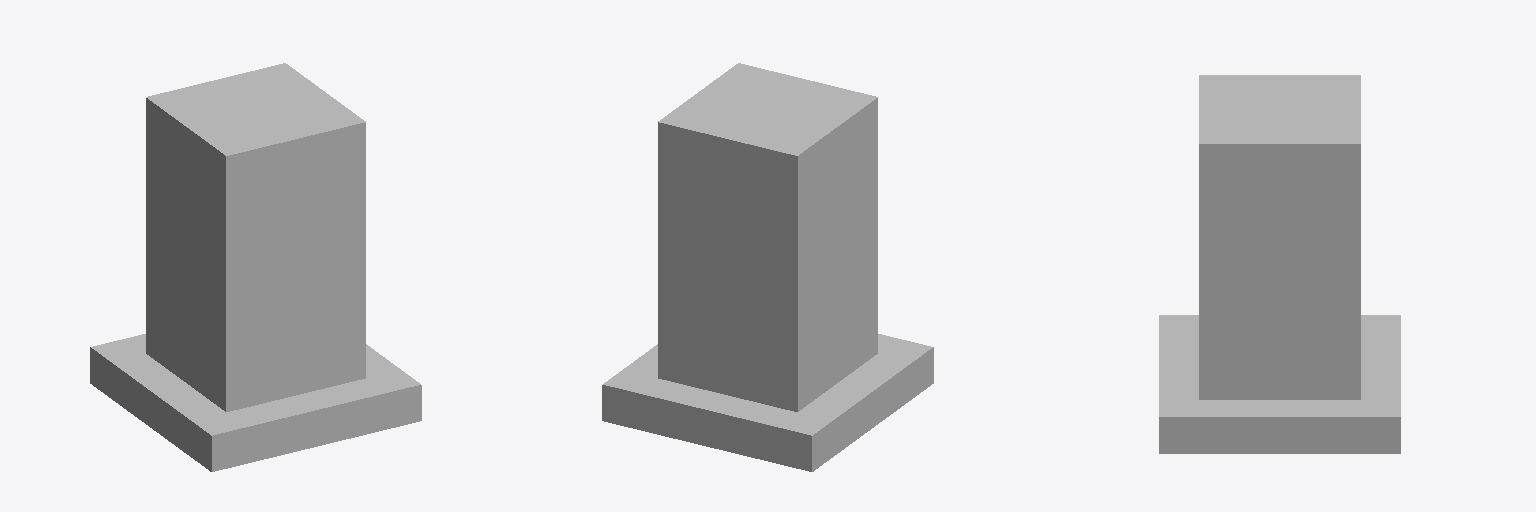
Rendered from press_head.obj.
3 views of the same model, side by side, from view 1: azimuth 30°, elevation 25°; view 2: azimuth 150°, elevation 25°; view 3: azimuth 270°, elevation 25° (orthographic).
Parts seen in each view (by area): view 1: Cube.001_Cube.002; view 2: Cube.001_Cube.002; view 3: Cube.001_Cube.002.
Part boxes in pixels (left/top/right/bottom): Cube.001_Cube.002: left=90, top=63, right=421, bottom=471; Cube.001_Cube.002: left=602, top=63, right=933, bottom=471; Cube.001_Cube.002: left=1159, top=75, right=1400, bottom=453.
Size of the model in its own units: 0.75 by 1 by 0.75.